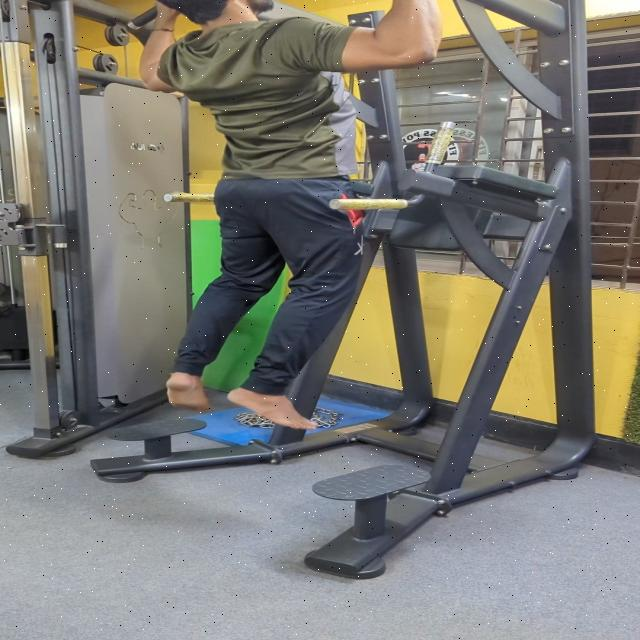Normal_PullUps: (67, 0, 500, 488)
